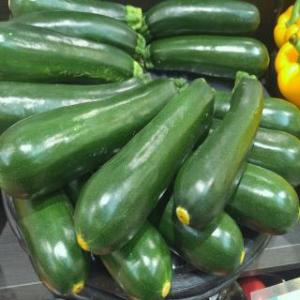zucchini: (174, 80, 268, 228)
